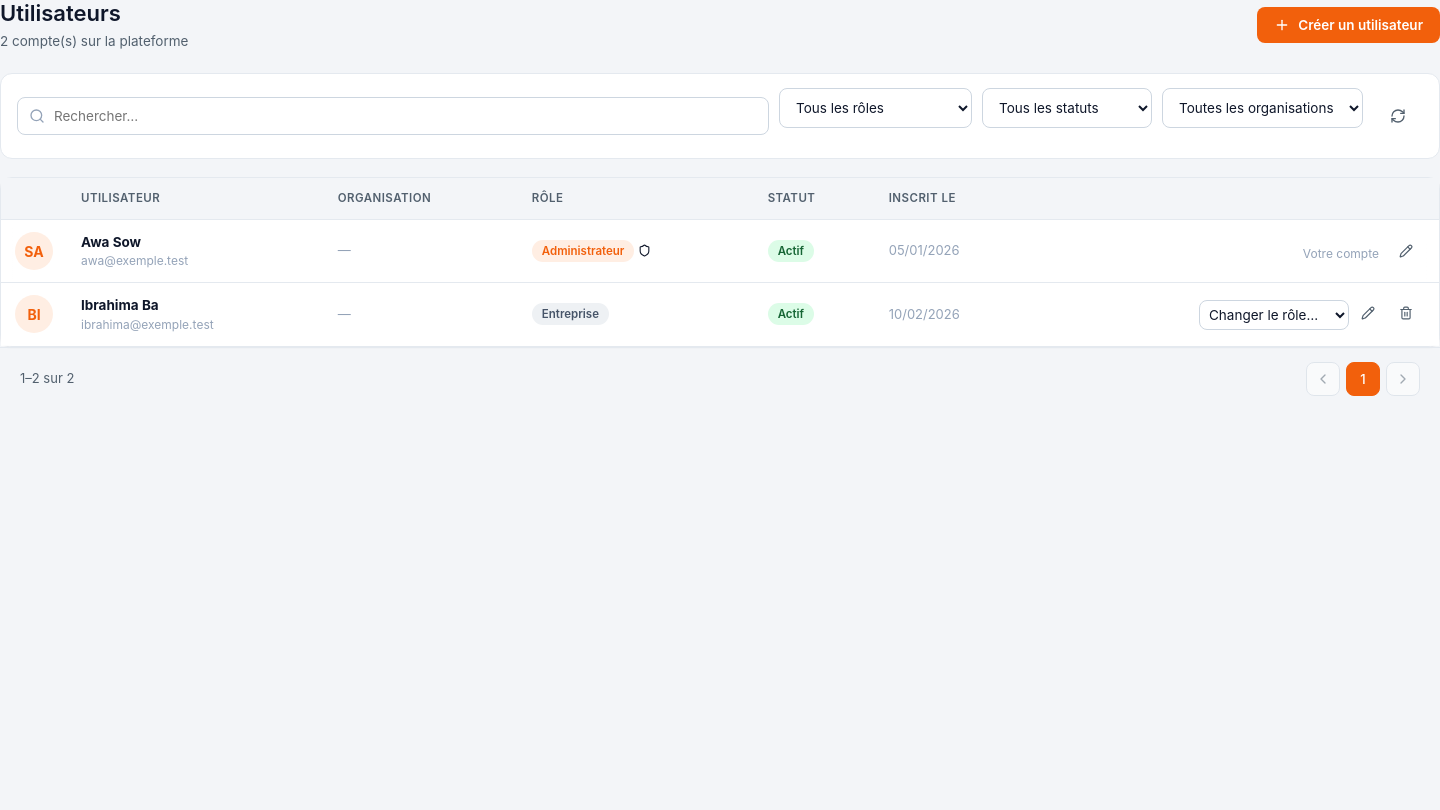
Test: PlateformeUtilisateurs › son propre compte › laisse modifier ses propres coordonnées — le serveur l’accepte
The width and height of the screenshot is (1440, 810).
expect the text "awa@exemple.test" is shown: met, box [81,253,188,268]
Click the button without text next to "Votre compte" at (1406, 251), box [1387,237,1425,265]
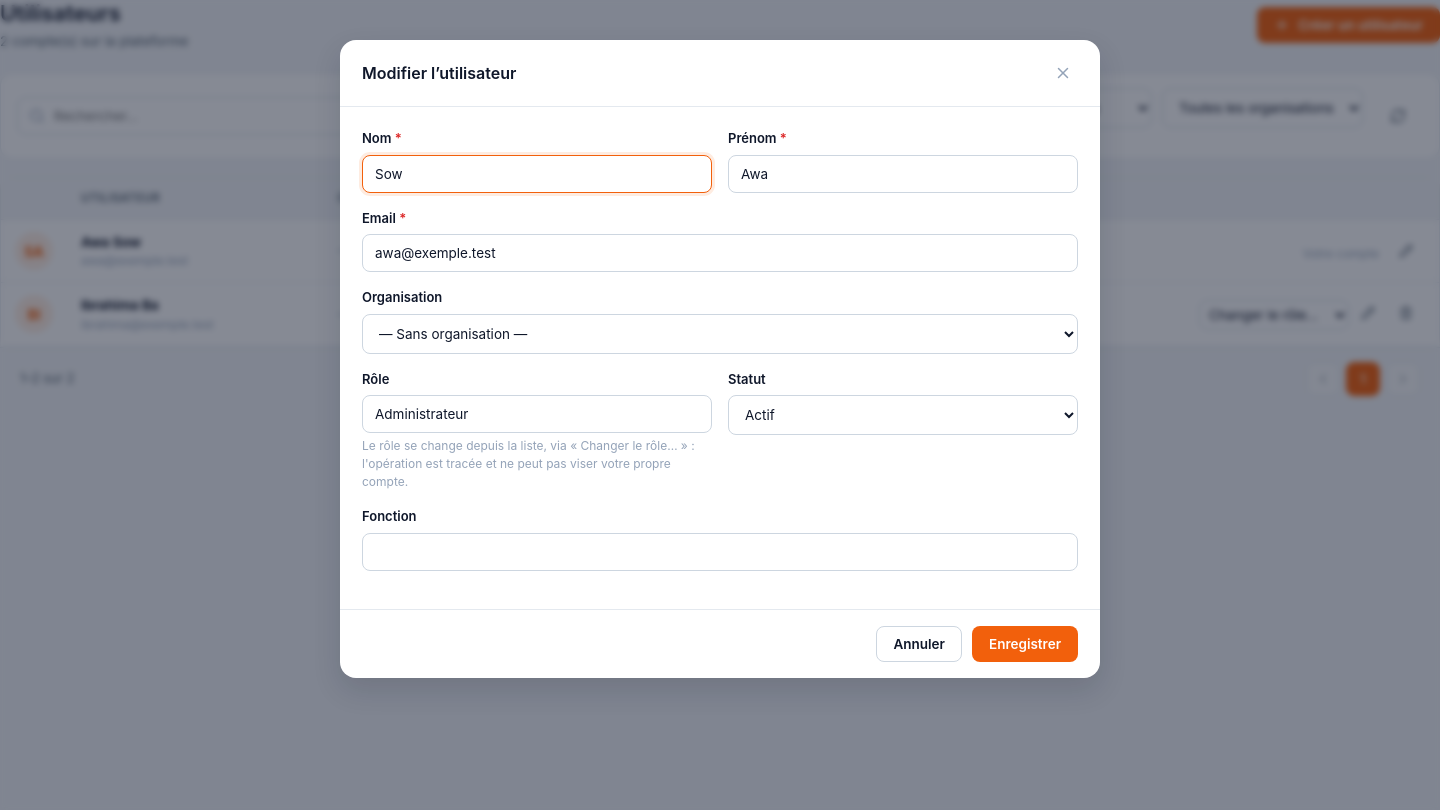
expect the field showing "awa@exemple.test" is shown: met, box [362,234,1078,272]
